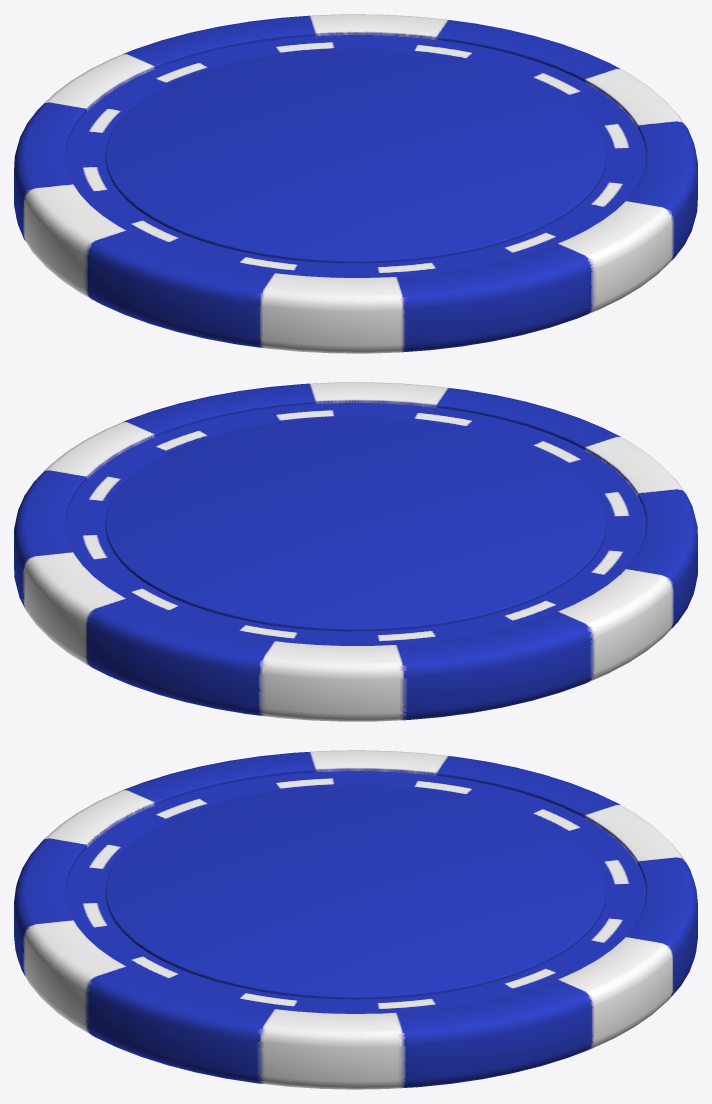
Rendered from blue_white.glb.
The picture shows the model from 3 angles, top to bottom: view 1: azimuth 30°, elevation 25°; view 2: azimuth 150°, elevation 25°; view 3: azimuth 270°, elevation 25°; orthographic projection.
Parts seen in each view (by area): view 1: chips.536_chips_blue_bake_0; view 2: chips.536_chips_blue_bake_0; view 3: chips.536_chips_blue_bake_0.
Boxes of the visible parts, <box> form: chips.536_chips_blue_bake_0: <box>14,14,697,353</box>; chips.536_chips_blue_bake_0: <box>14,382,697,721</box>; chips.536_chips_blue_bake_0: <box>14,750,697,1089</box>.
Bounding box in the file's own units: 2 × 0.1882 × 2.
1 material, 1 textured.
